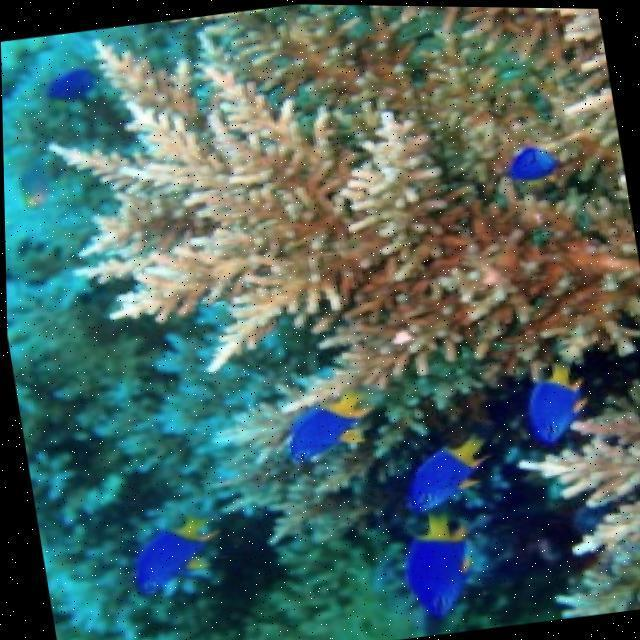Healthy Coral: (14, 1, 640, 452)
